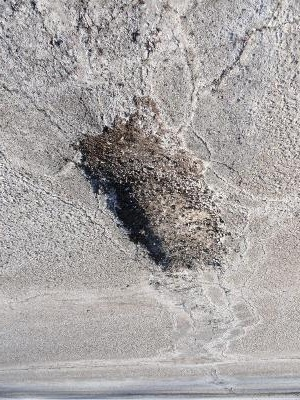pothole: (70, 101, 235, 279)
